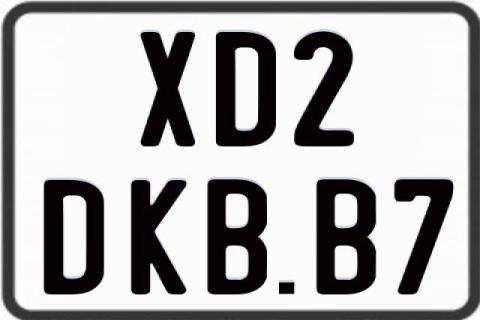0: (393, 178, 457, 296), (292, 29, 353, 150)
B: (206, 178, 270, 298), (315, 179, 378, 295)
D: (213, 32, 279, 146), (44, 179, 106, 299)
K: (130, 180, 191, 297)
X: (140, 32, 194, 149)
